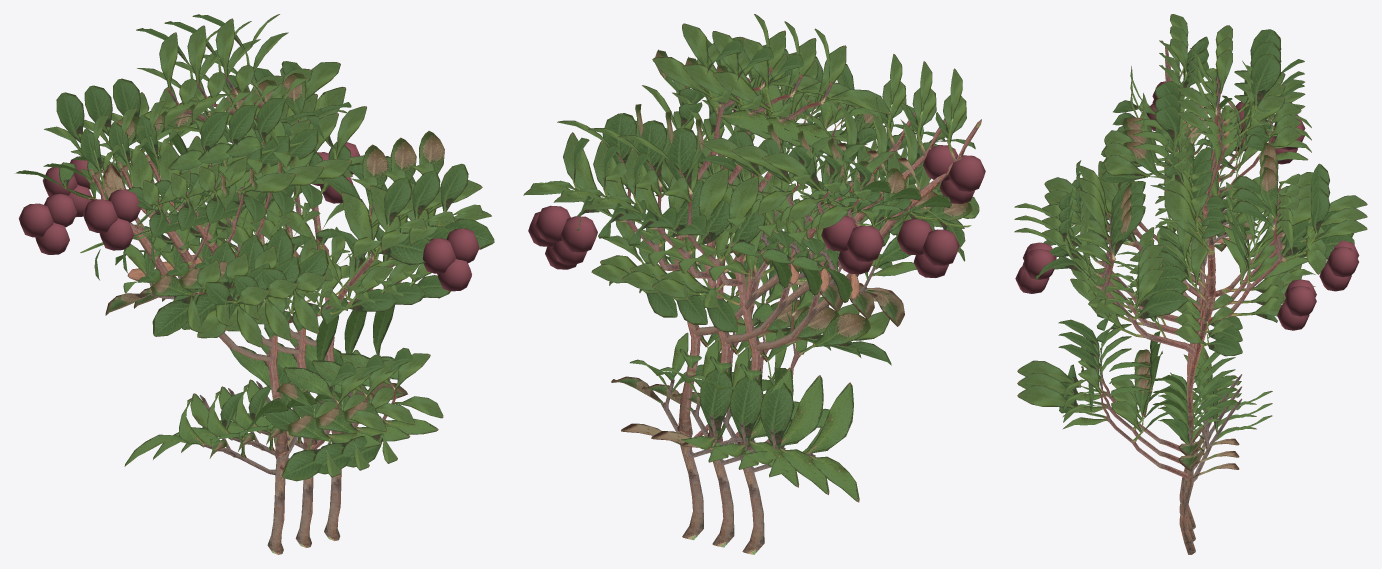
The model's file is natural-leafy-berries-clear.glb.
3 views of the same model, side by side, from view 1: azimuth 30°, elevation 25°; view 2: azimuth 150°, elevation 25°; view 3: azimuth 270°, elevation 25° (orthographic). The views are drawn at different scales.
Parts seen in each view (by area): view 1: natural-leafy-berries-clear runtime mesh; view 2: natural-leafy-berries-clear runtime mesh; view 3: natural-leafy-berries-clear runtime mesh.
Boxes of the visible parts, x1,y1,x2,y2 form: natural-leafy-berries-clear runtime mesh: (15,14,494,554); natural-leafy-berries-clear runtime mesh: (523,14,985,554); natural-leafy-berries-clear runtime mesh: (1014,14,1367,554).
Bounding box in the file's own units: 0.8192 × 1.05 × 0.7176.
2 materials, 1 textured.
